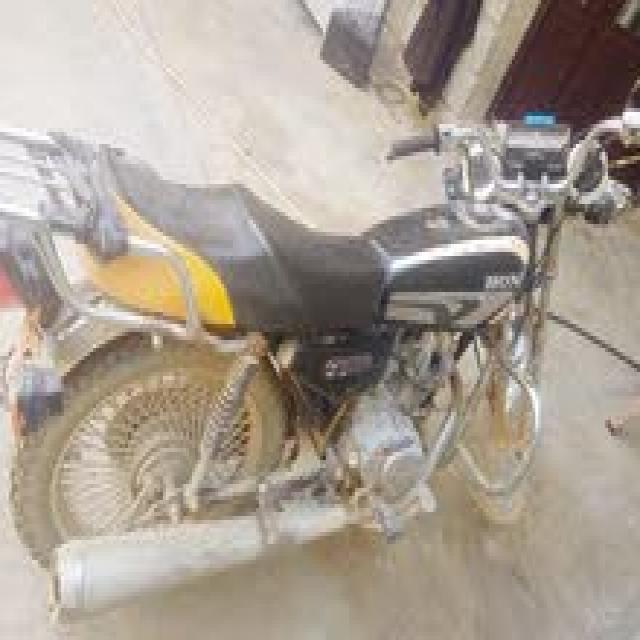motorcycle: (30, 120, 591, 590)
